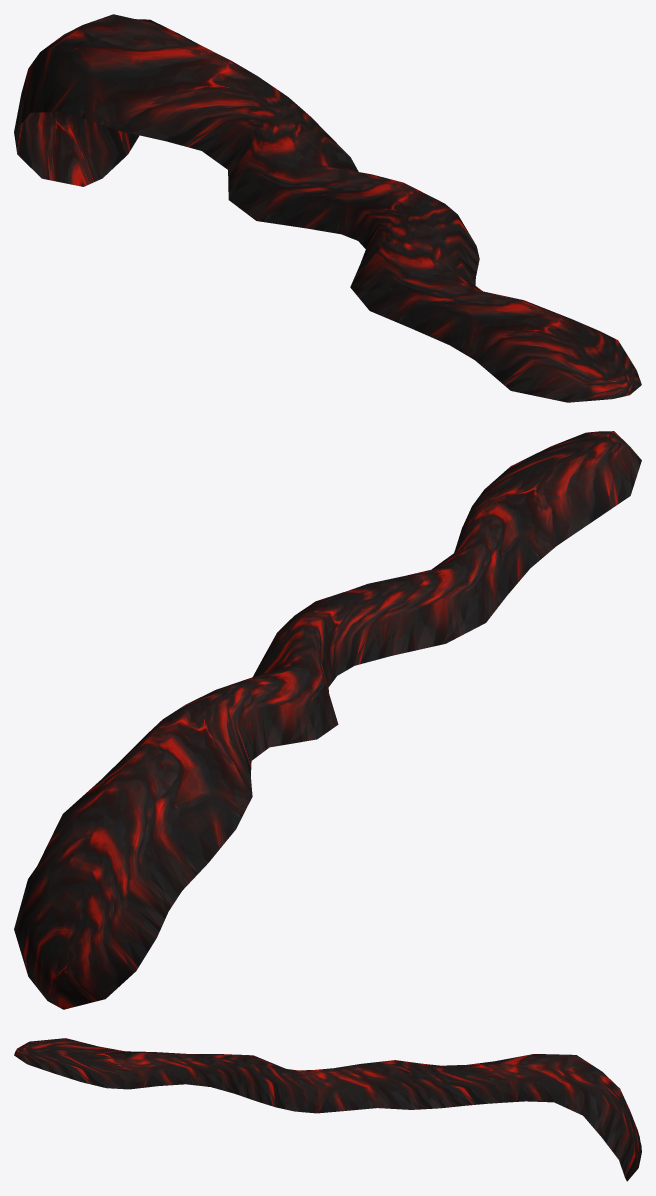
File: desert_SM_Env_Lava_River_05.gltf
3 views of the same model, one above another, from view 1: azimuth 30°, elevation 25°; view 2: azimuth 150°, elevation 25°; view 3: azimuth 270°, elevation 25° (orthographic). The views are drawn at different scales.
Visible parts, largest first — view 1: SM_Env_Lava_River_05; view 2: SM_Env_Lava_River_05; view 3: SM_Env_Lava_River_05.
Part boxes in pixels (<box>): SM_Env_Lava_River_05: <box>14,14,641,402</box>; SM_Env_Lava_River_05: <box>14,431,641,1009</box>; SM_Env_Lava_River_05: <box>14,1038,641,1181</box>.
Bounding box in the file's own units: 5.89 × 7.33 × 33.82.
1 material, 1 textured.
